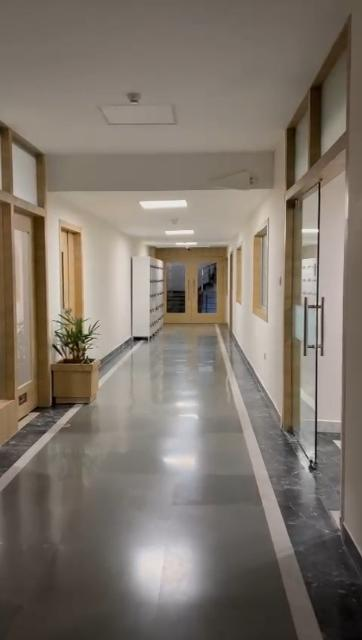door: (282, 92, 350, 500), (0, 123, 44, 420), (168, 248, 223, 332), (58, 230, 84, 320)
floor: (0, 324, 362, 639)
object: (50, 311, 100, 399)
wall: (95, 218, 133, 342), (267, 202, 281, 392), (240, 224, 254, 348)
